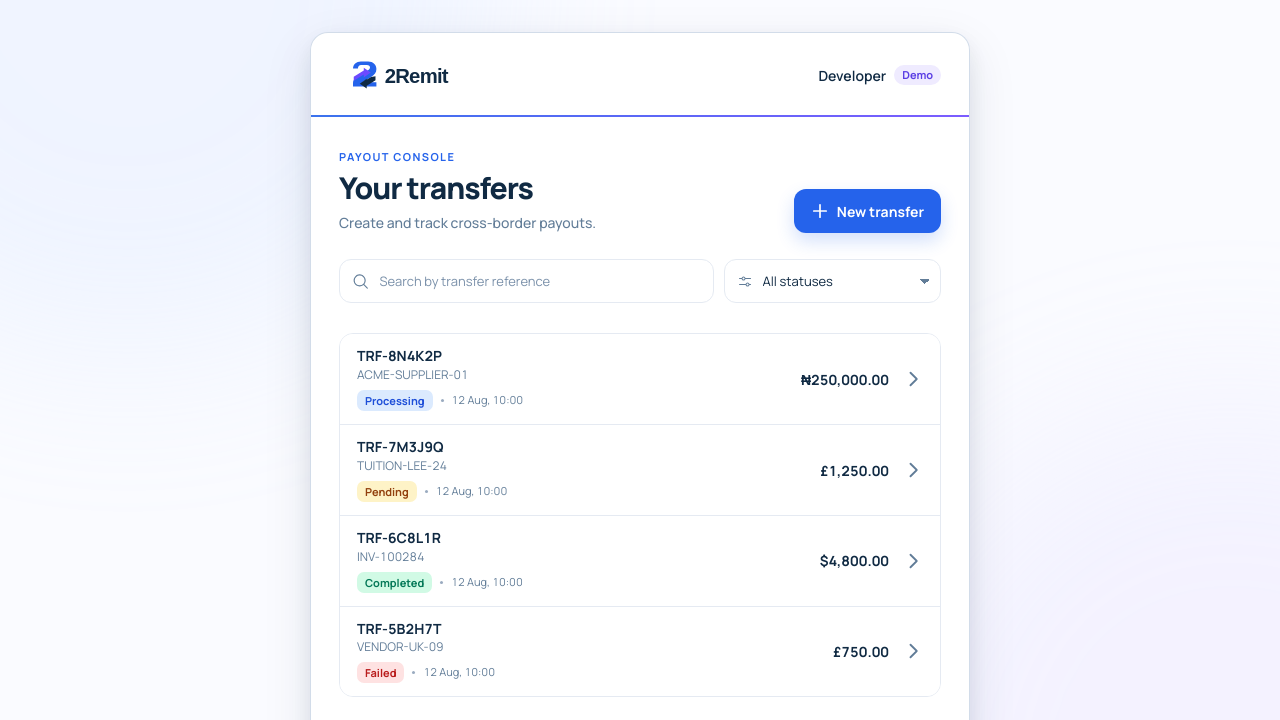
Test: TransfersConsole › searches by public transfer reference
Expected: the text "TRF-8N4K2P" is shown, x1=357 y1=346 x2=442 y2=366
Type "6C8L1R" into the search field labelled "Search by transfer reference" at coordinates (540, 282), box x1=380 y1=260 x2=700 y2=302
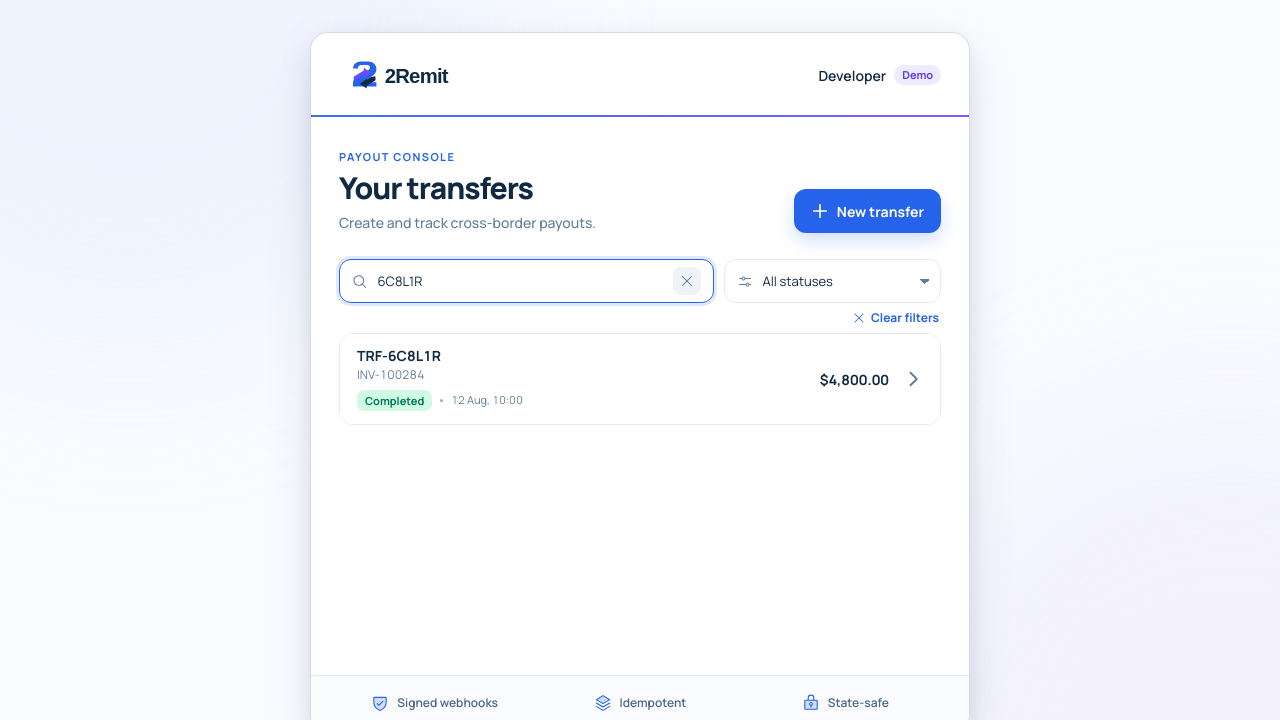
Expected: the text "TRF-6C8L1R" is shown, x1=357 y1=346 x2=441 y2=366
Expected: the link "TRF-8N4K2P" is gone
